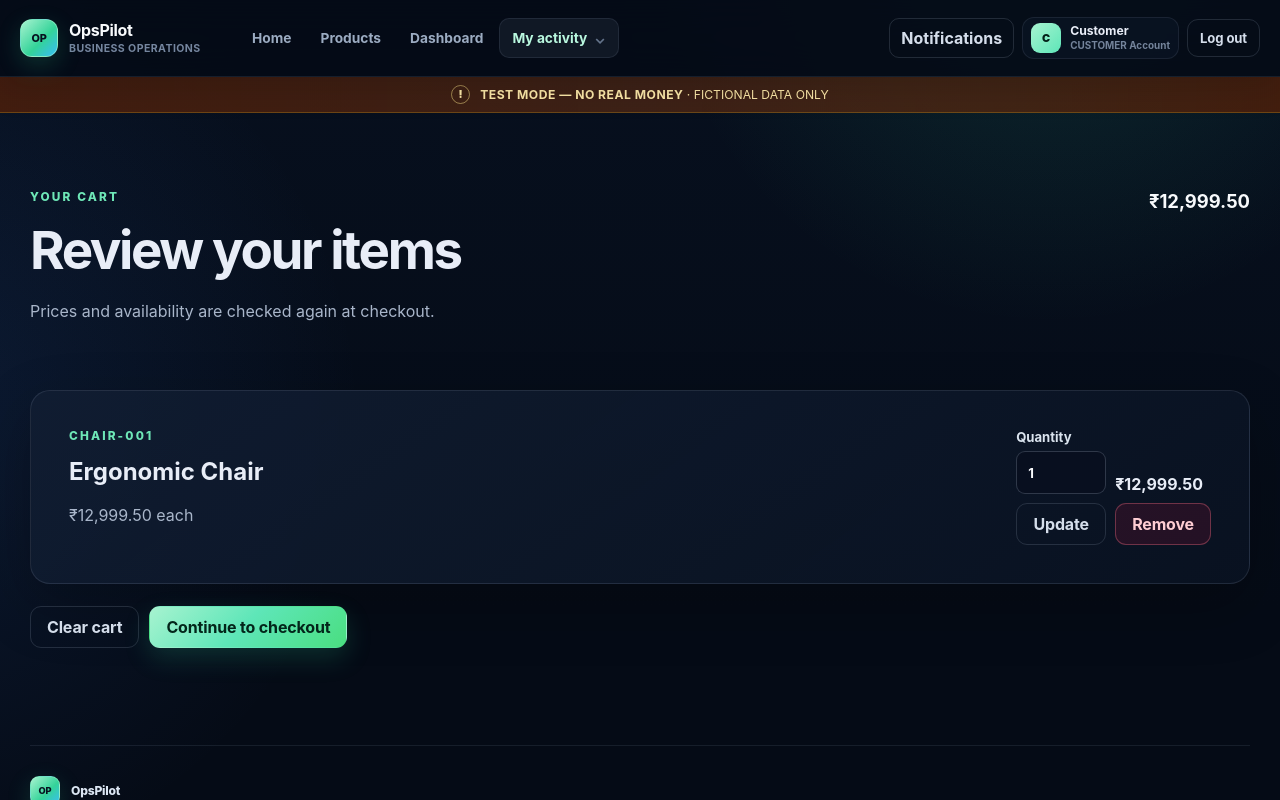
OpsPilot web authentication › updates and clears the versioned cart
Replace the text in the number field labelled "Quantity" with "2" at [1061, 473], box [1016,451,1106,494]
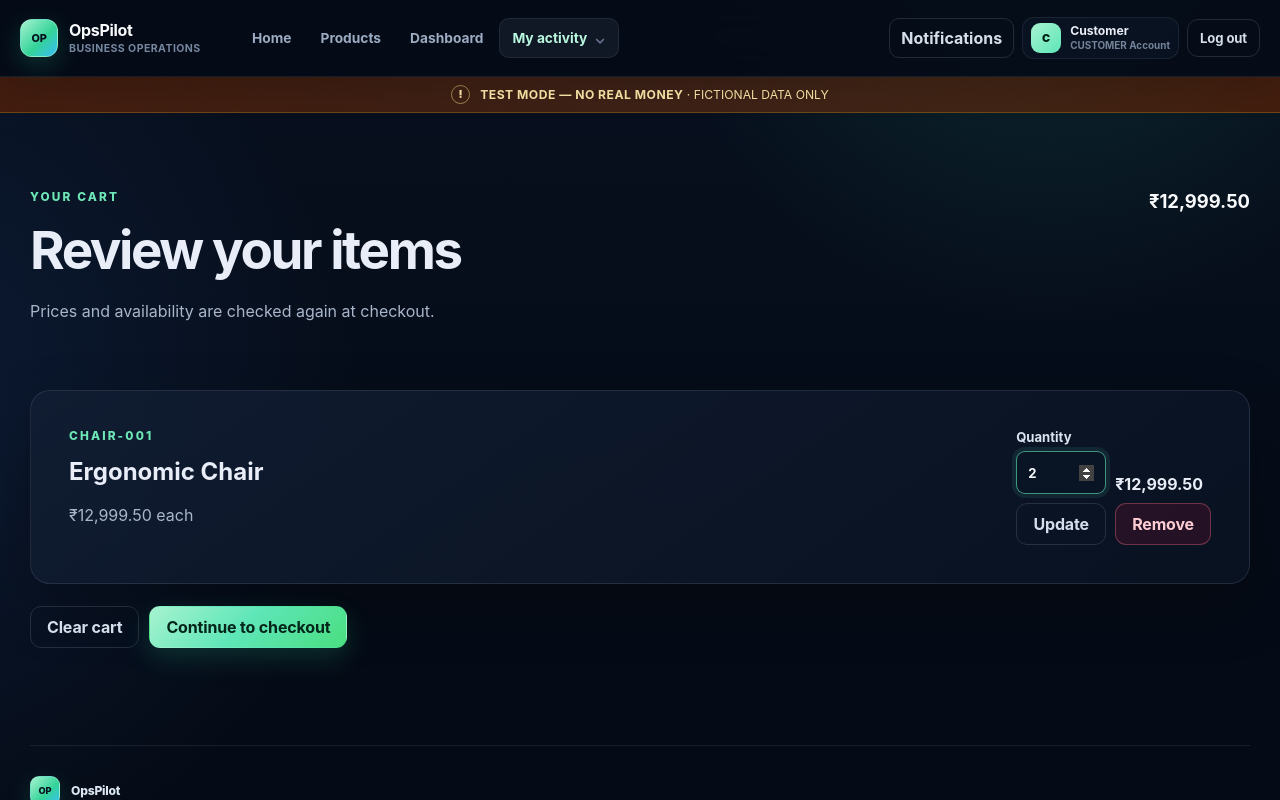
Click the button "Update" at [1061, 524], box [1016,503,1106,545]
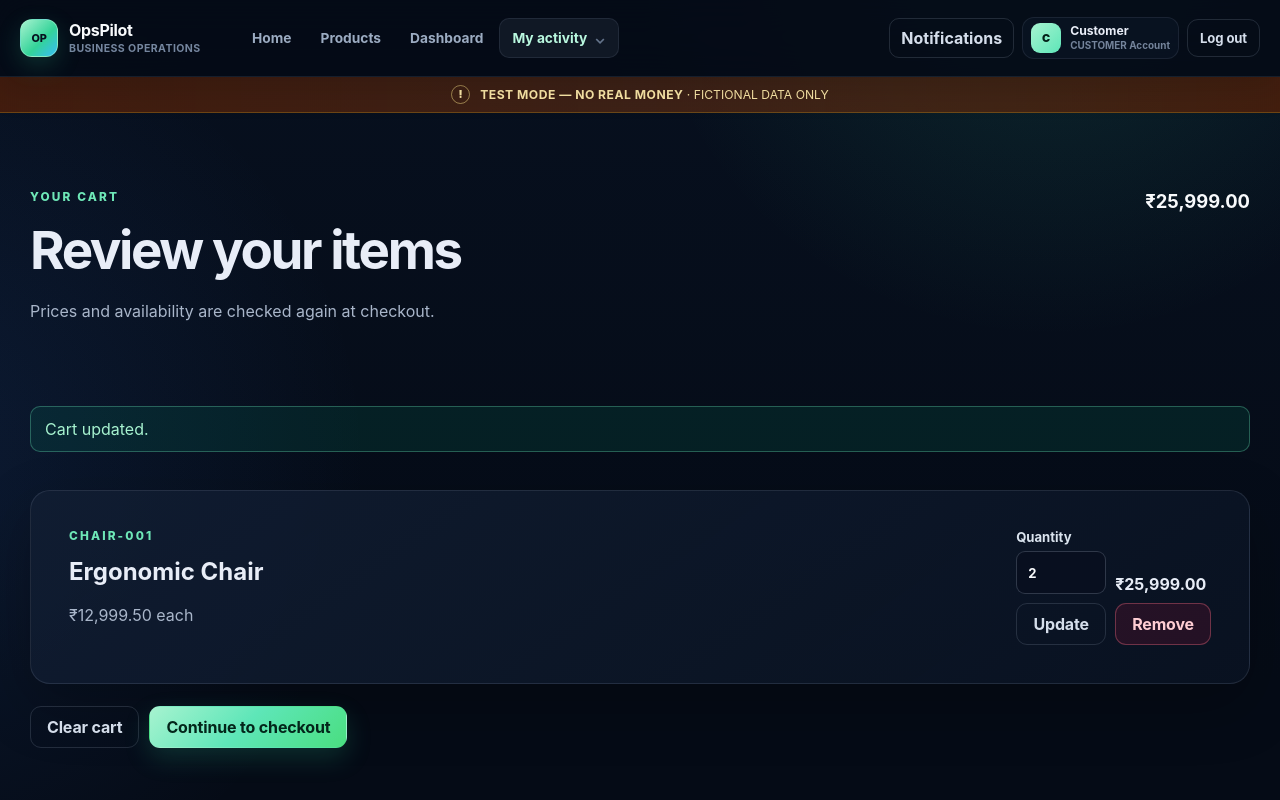
Click the button "Clear cart" at [85, 727], box [30,706,139,748]
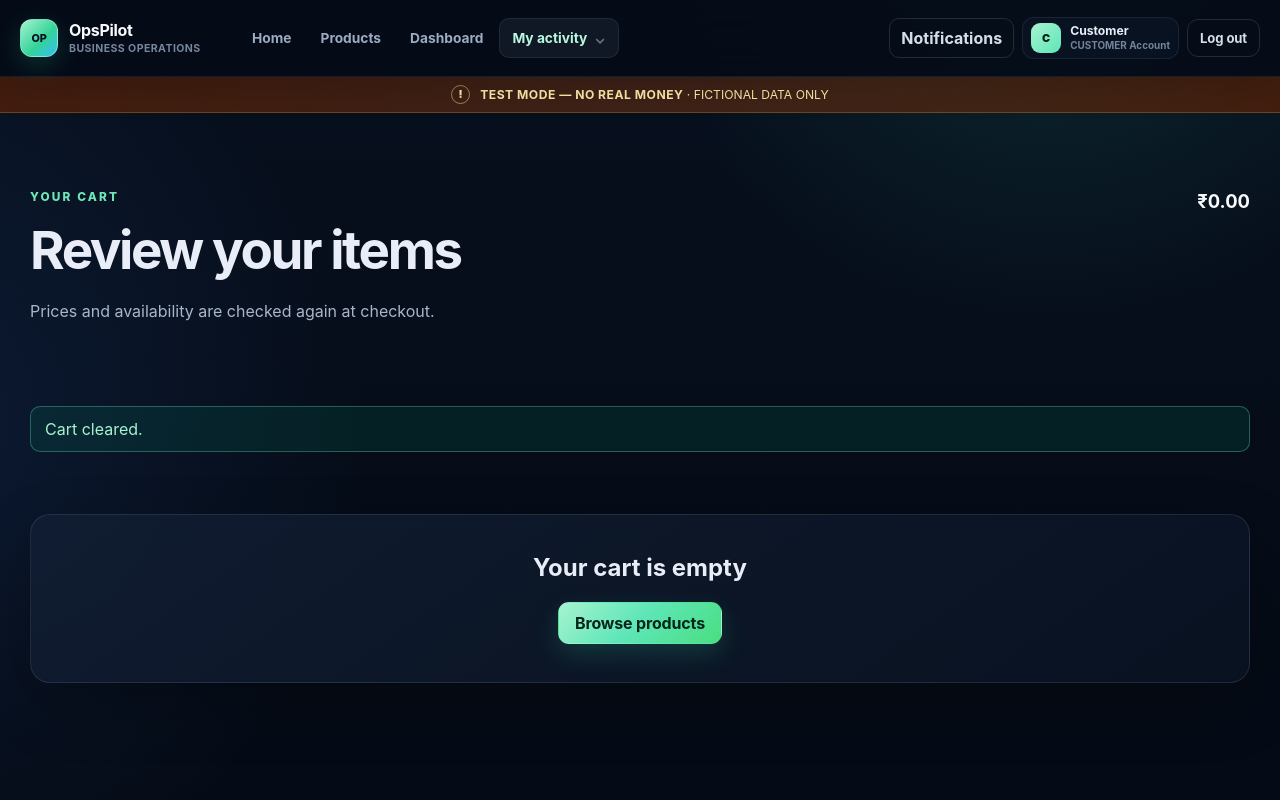
Now the heading "Your cart is empty" is shown, box [533,553,747,582]
